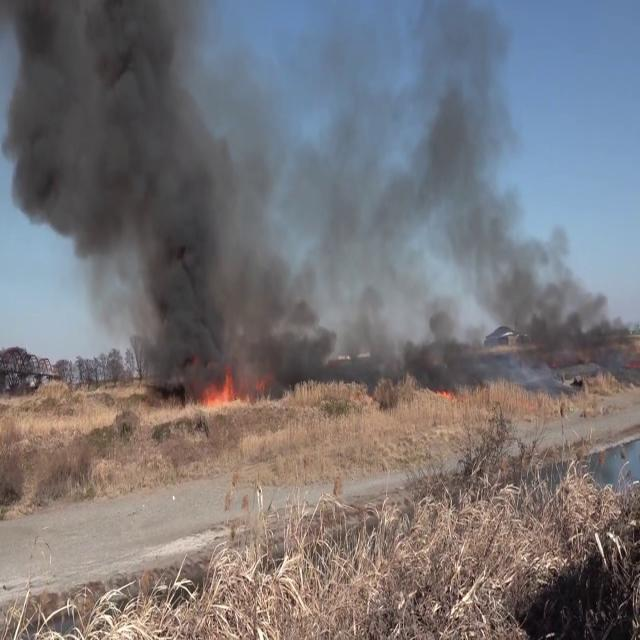Fire: (197, 359, 251, 413)
Smoke: (7, 0, 630, 384), (0, 0, 290, 382), (352, 2, 634, 365)
